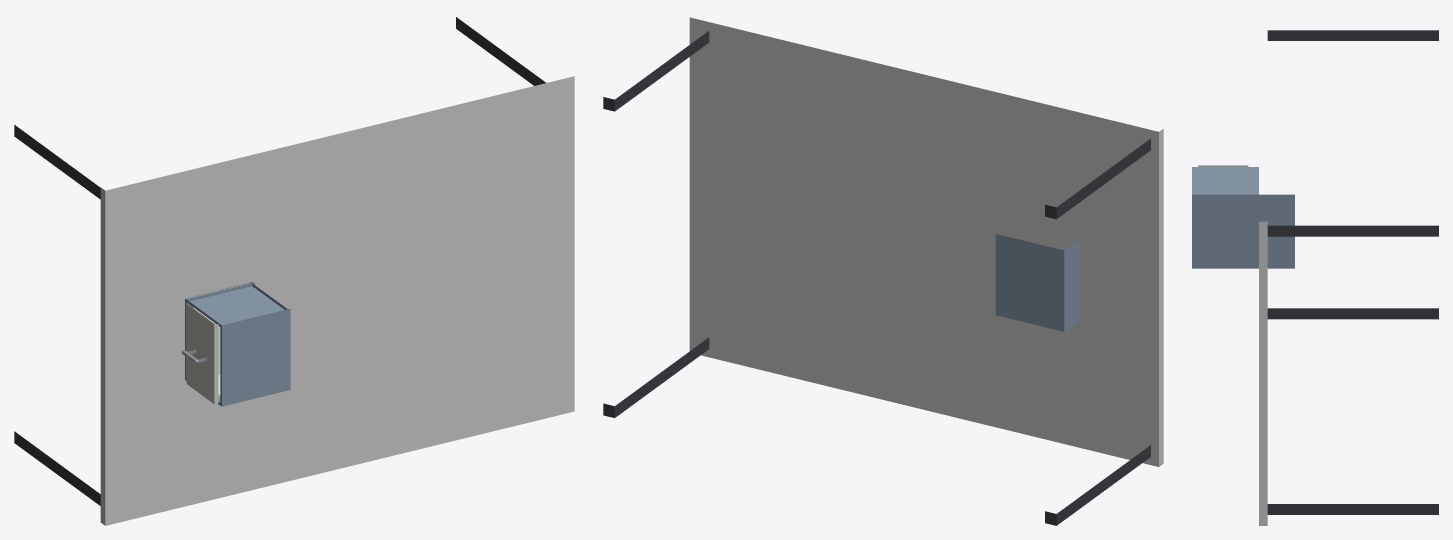
3 renders of one model, left to right at view 1: azimuth 30°, elevation 25°; view 2: azimuth 150°, elevation 25°; view 3: azimuth 270°, elevation 25°, orthographic. The views are drawn at different scales.
Parts seen in each view (by area): view 1: s0, s1, s2; view 2: s0, s1; view 3: s0, s1.
Part boxes in pixels (bbox=[...]): s0: bbox=[14, 17, 574, 525]; s1: bbox=[185, 282, 290, 406]; s2: bbox=[181, 305, 220, 404]; s0: bbox=[603, 17, 1163, 525]; s1: bbox=[995, 234, 1079, 331]; s0: bbox=[1259, 30, 1438, 525]; s1: bbox=[1192, 167, 1294, 268].
Bounding box in the file's own units: 2.05 × 1.4 × 1.03.
